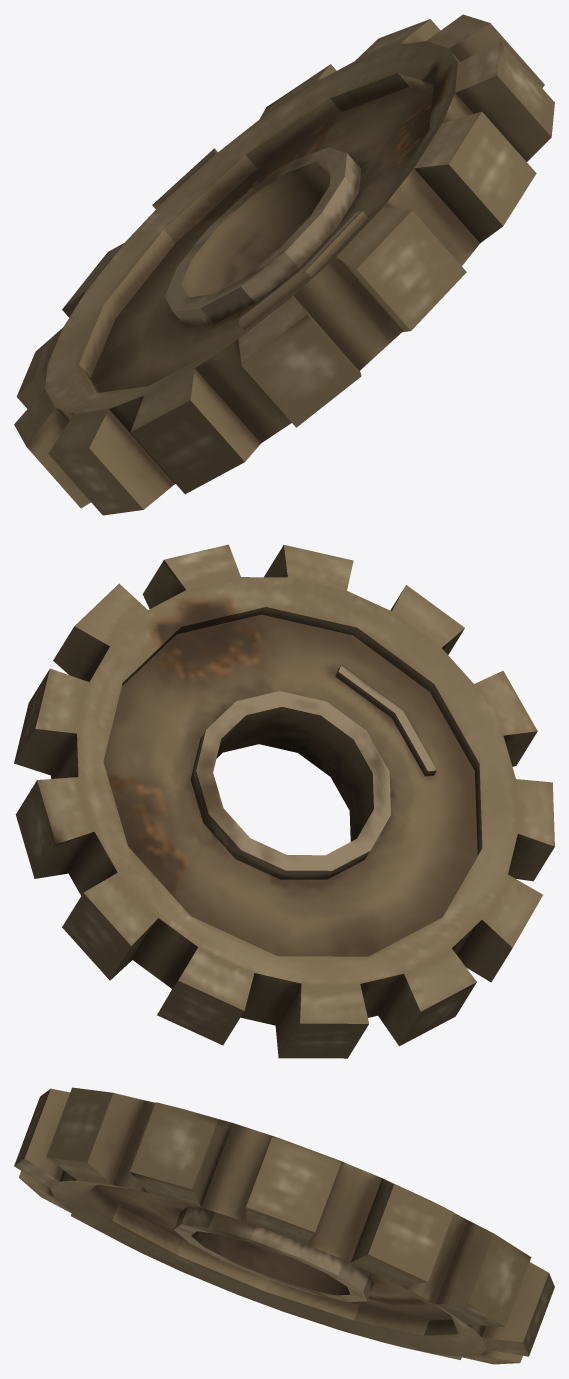
File: Gear.glb
3 renders of one model, top to bottom at view 1: azimuth 30°, elevation 25°; view 2: azimuth 150°, elevation 25°; view 3: azimuth 270°, elevation 25°, orthographic. The views are drawn at different scales.
Visible parts, largest first — view 1: CryoOrbGear.002; view 2: CryoOrbGear.002; view 3: CryoOrbGear.002.
Boxes of the visible parts, x1,y1,x2,y2 form: CryoOrbGear.002: (14, 14, 554, 515); CryoOrbGear.002: (14, 544, 554, 1058); CryoOrbGear.002: (14, 1087, 554, 1364).
Size of the model in its own units: 0.2814 by 0.2257 by 0.302.
Materials: 1 (1 with a texture image).
